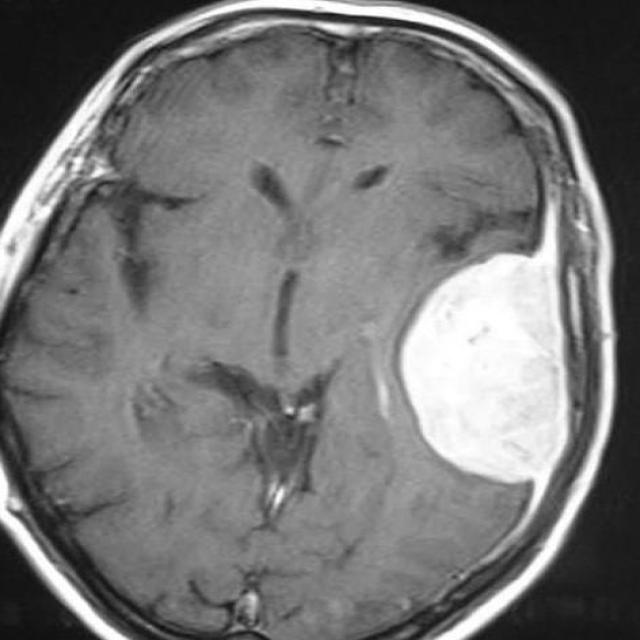Tumor: (401, 210, 569, 486)
